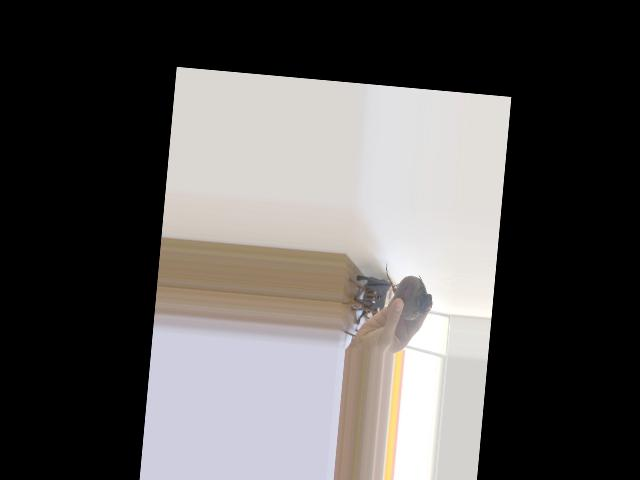beet: (381, 261, 435, 321)
